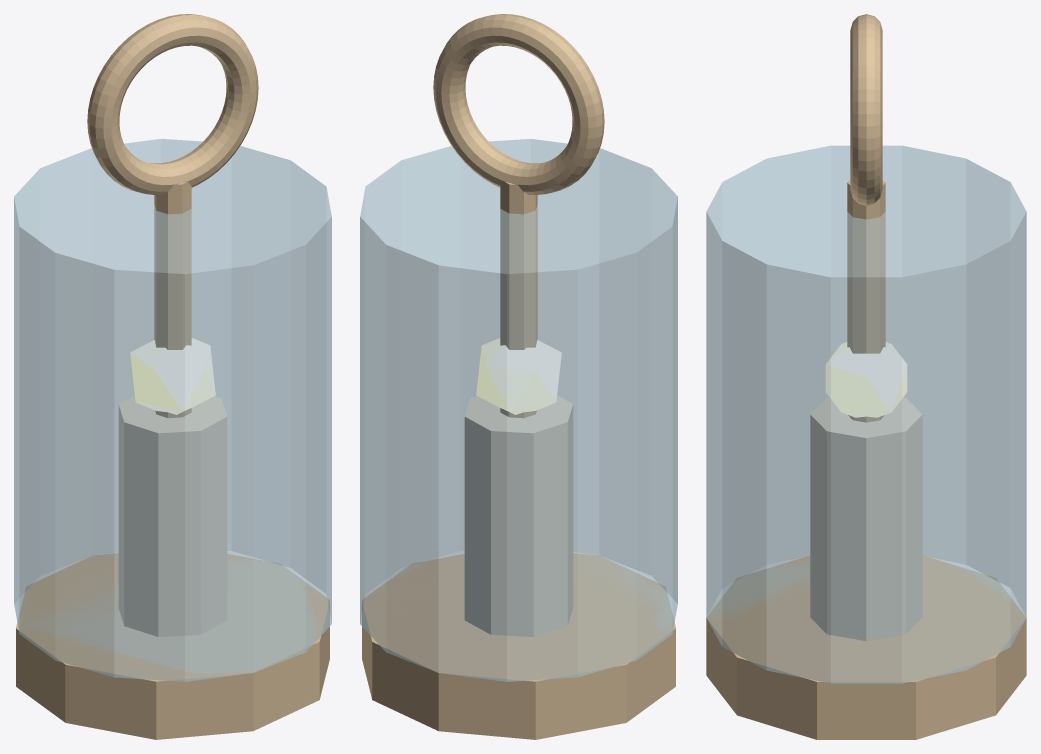
The model's file is 18-Casas_decor_farol_mesa.glb.
3 views of the same model, side by side, from view 1: azimuth 30°, elevation 25°; view 2: azimuth 150°, elevation 25°; view 3: azimuth 270°, elevation 25° (orthographic).
Visible parts, largest first — view 1: SM_FarolMesa_Campana, SM_FarolMesa_Pie, SM_FarolMesa_Vela, SM_FarolMesa_Aro, SM_FarolMesa_Poste, SM_FarolMesa_Llama; view 2: SM_FarolMesa_Campana, SM_FarolMesa_Pie, SM_FarolMesa_Vela, SM_FarolMesa_Aro, SM_FarolMesa_Poste, SM_FarolMesa_Llama; view 3: SM_FarolMesa_Campana, SM_FarolMesa_Pie, SM_FarolMesa_Vela, SM_FarolMesa_Poste, SM_FarolMesa_Aro, SM_FarolMesa_Llama.
Part boxes in pixels (x1,y1,x2,y2): SM_FarolMesa_Campana: (14,139,331,681); SM_FarolMesa_Pie: (16,553,329,739); SM_FarolMesa_Vela: (118,395,227,636); SM_FarolMesa_Aro: (87,14,258,195); SM_FarolMesa_Poste: (154,181,191,418); SM_FarolMesa_Llama: (130,338,215,414); SM_FarolMesa_Campana: (360,139,677,681); SM_FarolMesa_Pie: (362,553,675,739); SM_FarolMesa_Vela: (464,395,573,636); SM_FarolMesa_Aro: (433,14,604,195); SM_FarolMesa_Poste: (500,181,537,418); SM_FarolMesa_Llama: (476,338,561,414); SM_FarolMesa_Campana: (706,145,1026,683); SM_FarolMesa_Pie: (706,556,1026,739); SM_FarolMesa_Vela: (810,397,922,641); SM_FarolMesa_Poste: (847,180,885,422); SM_FarolMesa_Aro: (850,14,882,205); SM_FarolMesa_Llama: (825,342,907,417).
Size of the model in its own units: 0.195 by 0.45 by 0.2.
